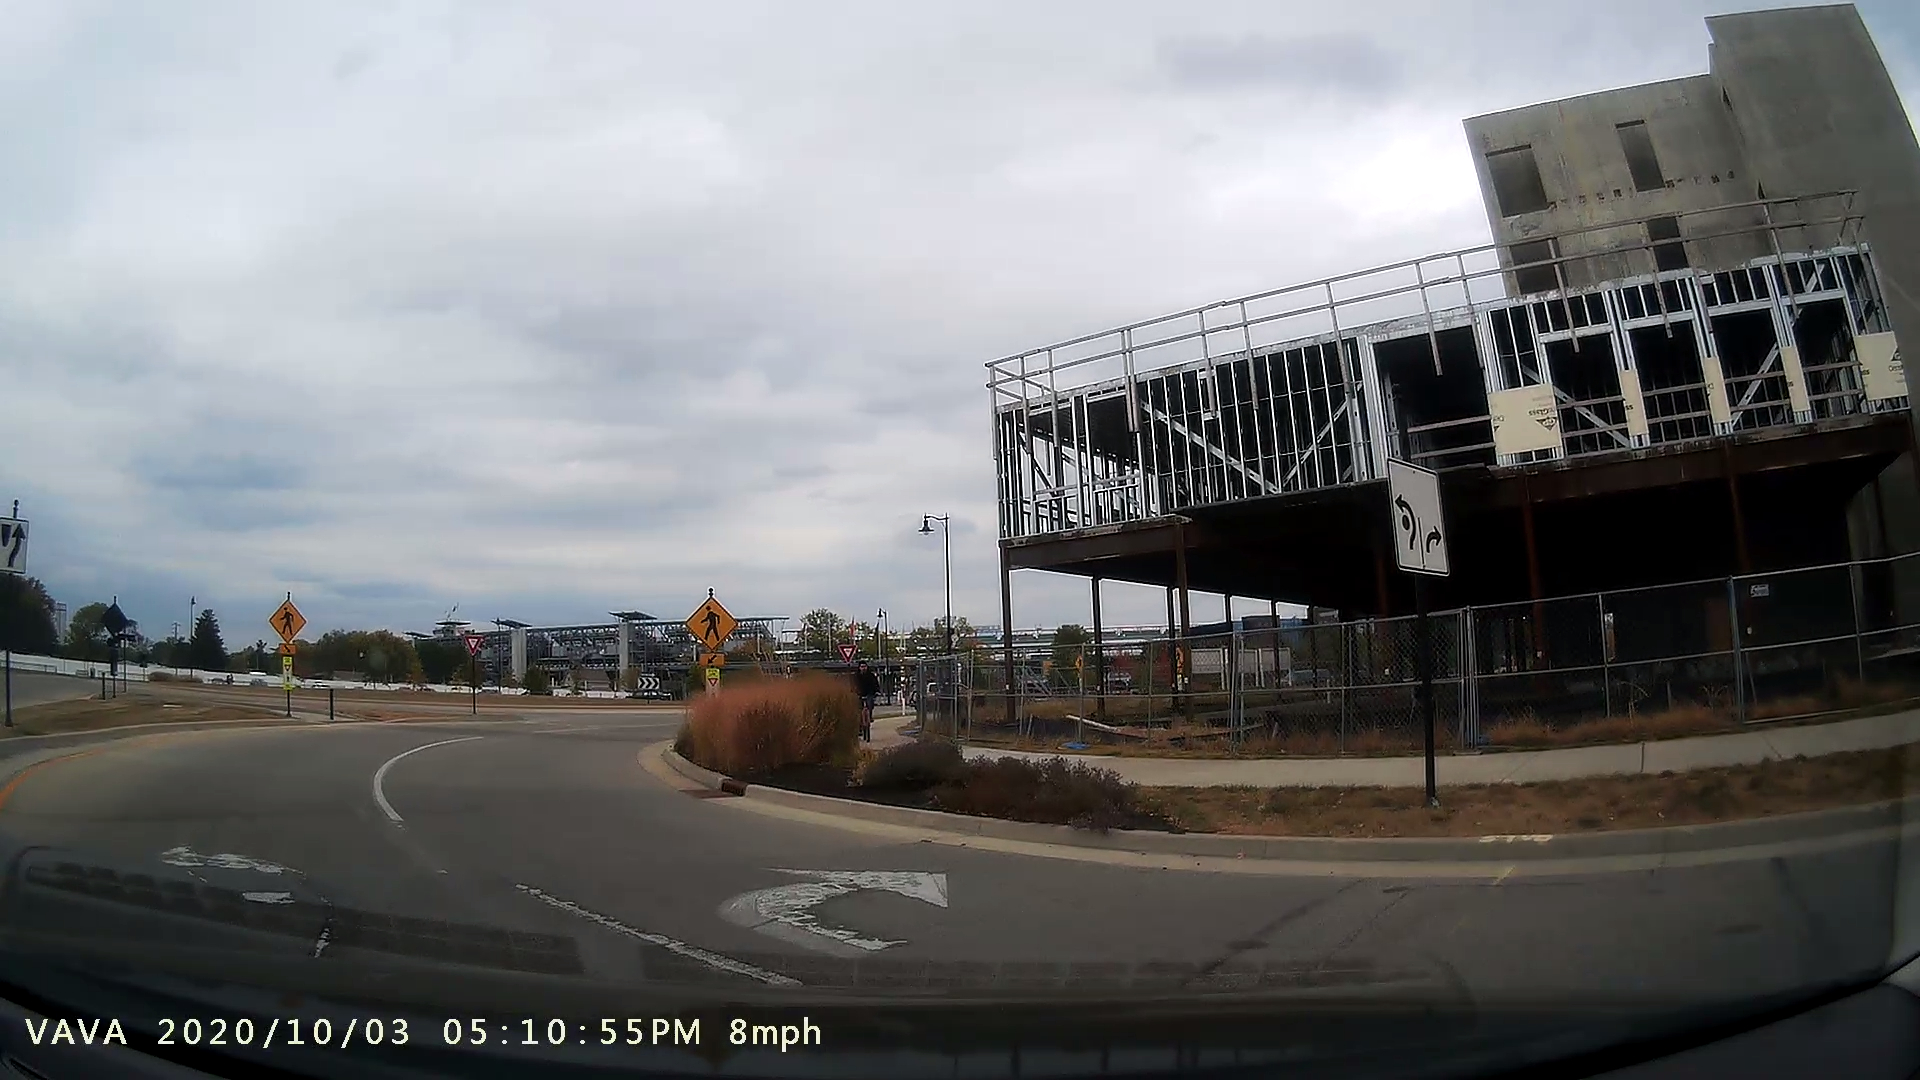right_turn: (705, 851, 963, 965)
